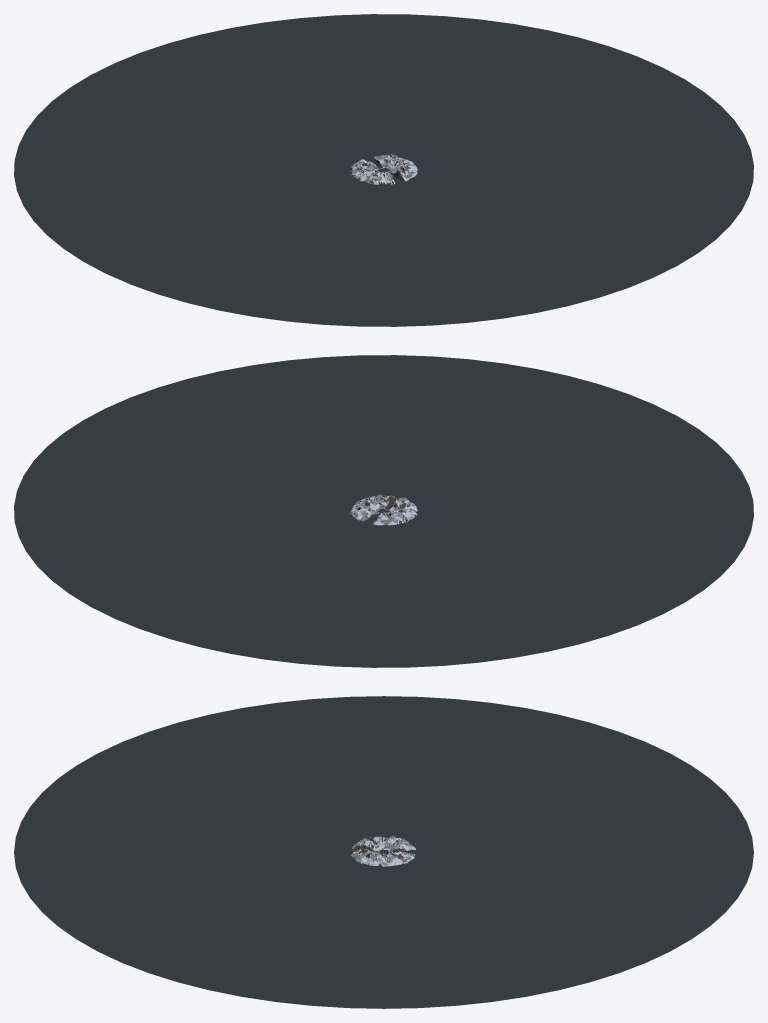
Rendered from backdrop_near_rect_isle_winter.glb.
3 renders of one model, top to bottom at view 1: azimuth 30°, elevation 25°; view 2: azimuth 150°, elevation 25°; view 3: azimuth 270°, elevation 25°, orthographic.
Parts seen in each view (by area): view 1: water_N, water_S, water_W, water_E; view 2: water_N, water_S, water_W, water_E; view 3: water_E, water_N, water_W, water_S.
Boxes of the visible parts, left/top/right/bottom form: water_N: left=26, top=14, right=479, bottom=170; water_S: left=288, top=170, right=741, bottom=326; water_W: left=14, top=130, right=383, bottom=321; water_E: left=384, top=19, right=753, bottom=210; water_N: left=26, top=511, right=479, bottom=667; water_S: left=288, top=355, right=741, bottom=511; water_W: left=384, top=471, right=753, bottom=662; water_E: left=14, top=360, right=383, bottom=551; water_E: left=123, top=852, right=644, bottom=1008; water_N: left=384, top=742, right=753, bottom=962; water_W: left=123, top=696, right=644, bottom=852; water_S: left=14, top=742, right=383, bottom=962.
Bounding box in the file's own units: 6000 × 168 × 6000.
5 materials, 3 textured.
